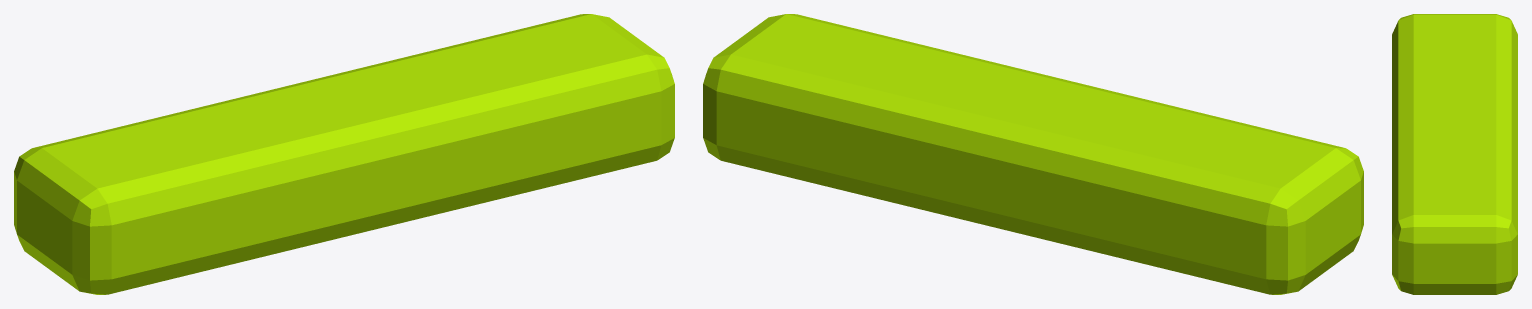
File: MovingPart_cut.fbx
3 views of the same model, side by side, from view 1: azimuth 30°, elevation 25°; view 2: azimuth 150°, elevation 25°; view 3: azimuth 270°, elevation 25° (orthographic). The views are drawn at different scales.
Visible parts, largest first — view 1: Cube; view 2: Cube; view 3: Cube.
Boxes of the visible parts, x1=… form: Cube: x1=14, y1=14, x2=674, y2=294; Cube: x1=703, y1=14, x2=1363, y2=294; Cube: x1=1392, y1=14, x2=1517, y2=294.
Size of the model in its own units: 95.79 by 16.24 by 23.31.
